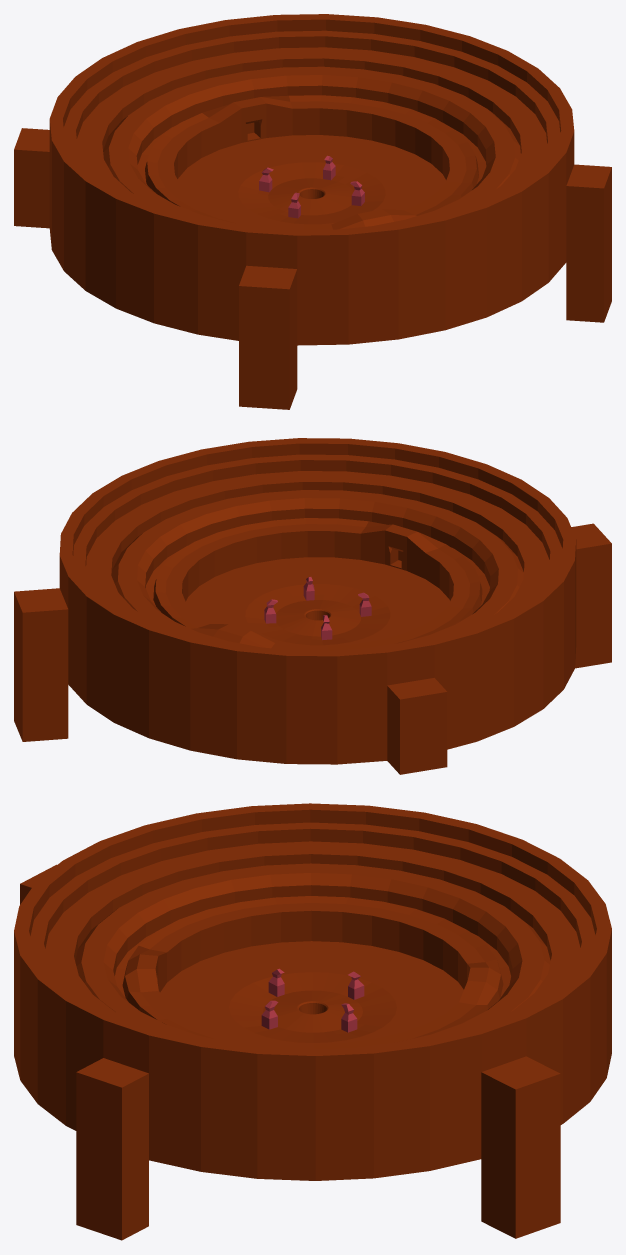
The model's file is Arena.fbx.
The picture shows the model from 3 angles, top to bottom: view 1: azimuth 30°, elevation 25°; view 2: azimuth 150°, elevation 25°; view 3: azimuth 270°, elevation 25°; orthographic projection. The views are drawn at different scales.
Parts seen in each view (by area): view 1: Circle; view 2: Circle; view 3: Circle.
Part boxes in pixels (x1,y1,x2,y2): Circle: (14,14,611,409); Circle: (14,438,611,774); Circle: (14,803,611,1240).
Size of the model in its own units: 6571 by 2313 by 6571.
